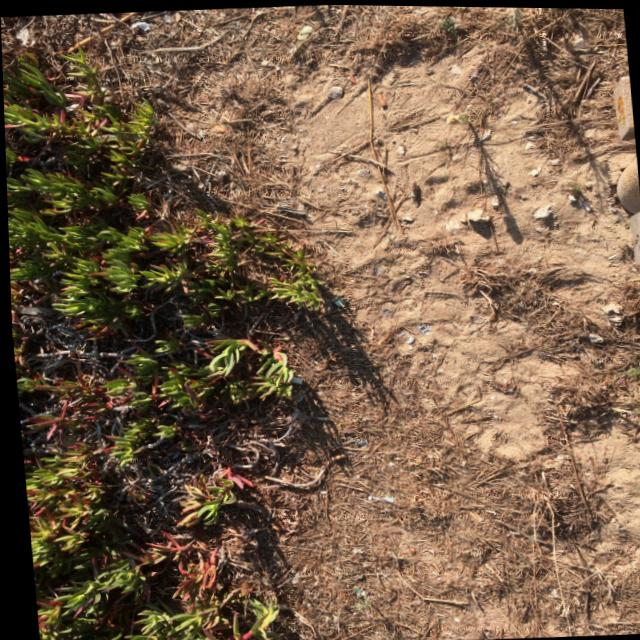Can-Metal: (391, 328, 414, 345), (325, 292, 348, 308), (413, 321, 433, 334), (376, 303, 394, 316)
